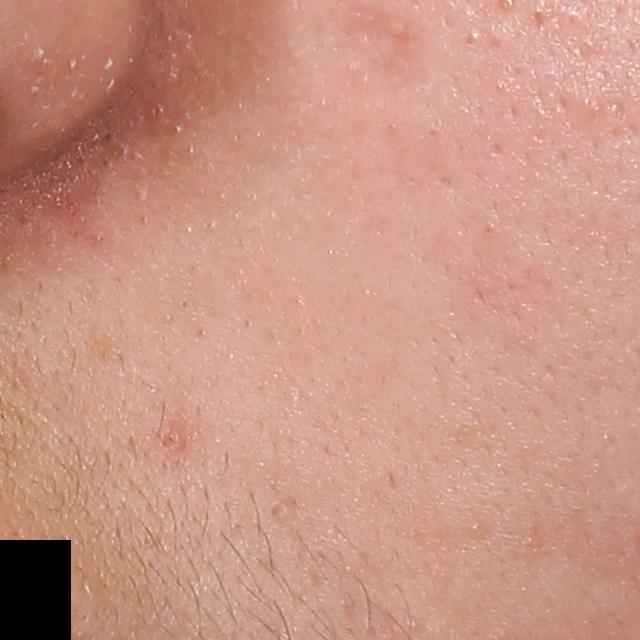comedo: (469, 521, 484, 537)
papule: (158, 423, 189, 451)
